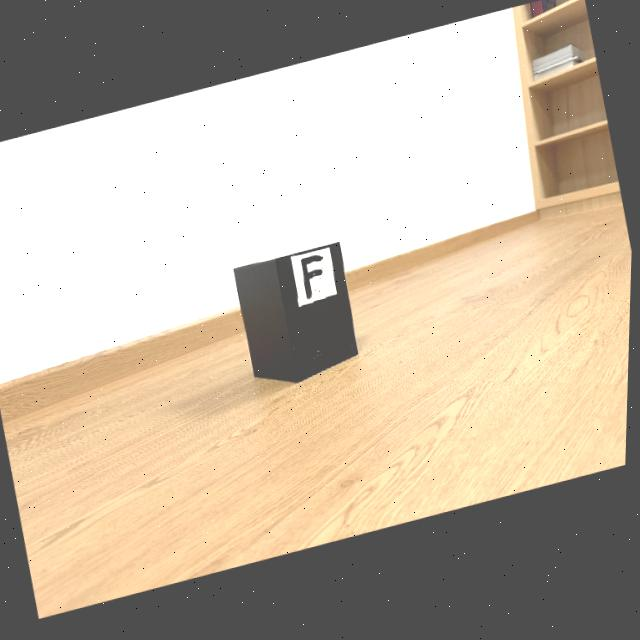F: (303, 258, 325, 302)
